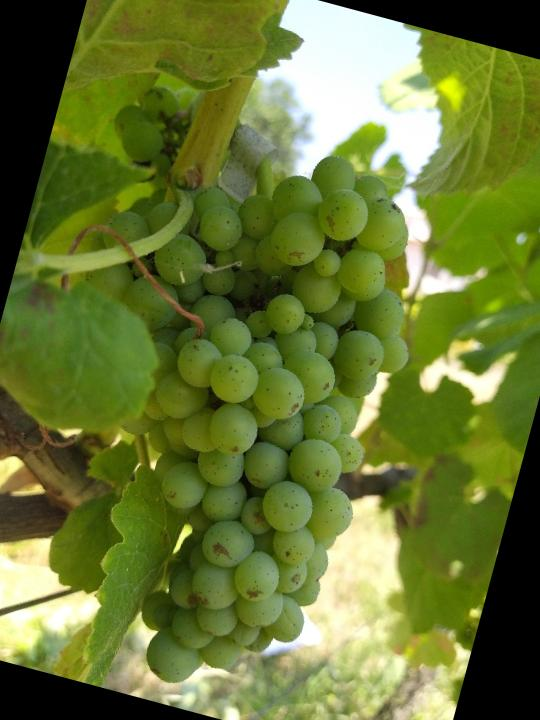grape: (0, 99, 461, 720)
